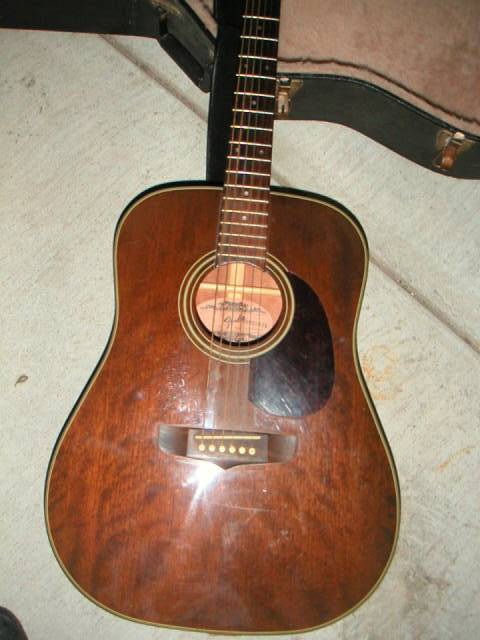guitar: (41, 1, 403, 636)
